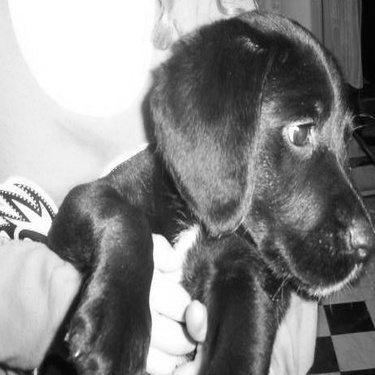dog: (30, 8, 372, 372)
